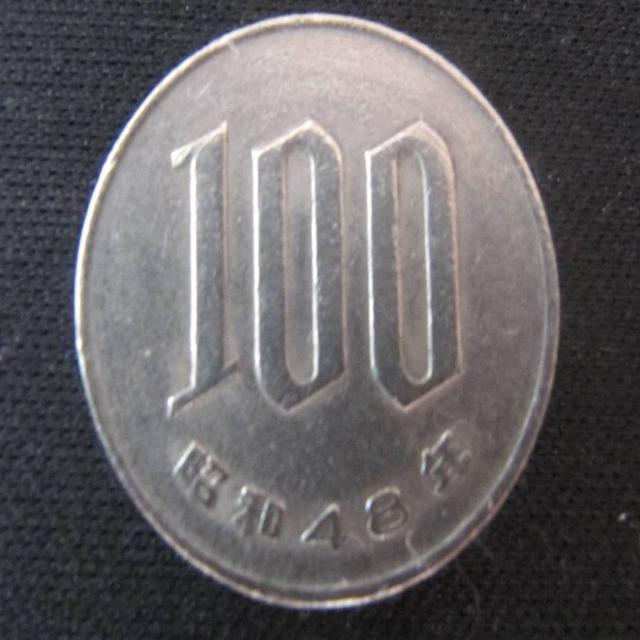Coin: (67, 4, 564, 614)
